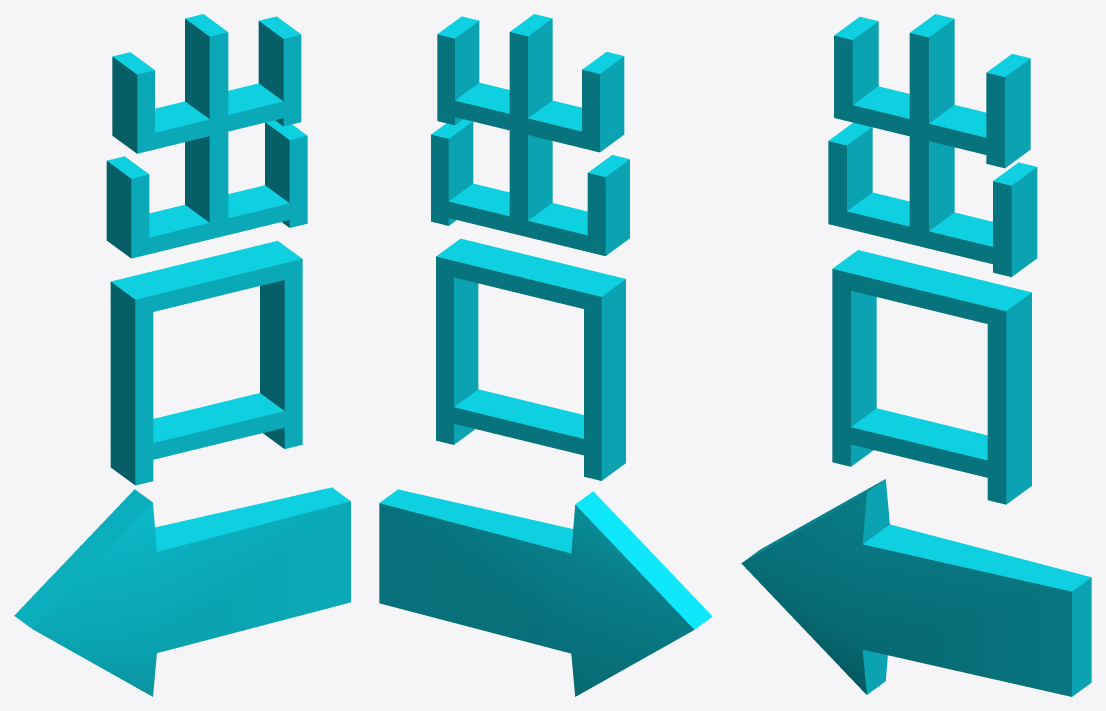
File: chu kou.FBX
The picture shows the model from 3 angles, left to right: view 1: azimuth 30°, elevation 25°; view 2: azimuth 150°, elevation 25°; view 3: azimuth 330°, elevation 25°; orthographic projection. The views are drawn at different scales.
Parts seen in each view (by area): view 1: Text002; view 2: Text002; view 3: Text002.
Boxes of the visible parts, <box> form: Text002: <box>14,14,350,696</box>; Text002: <box>379,14,712,696</box>; Text002: <box>741,14,1091,696</box>.
Bounding box in the file's own units: 0.1312 × 0.2578 × 0.0214.
